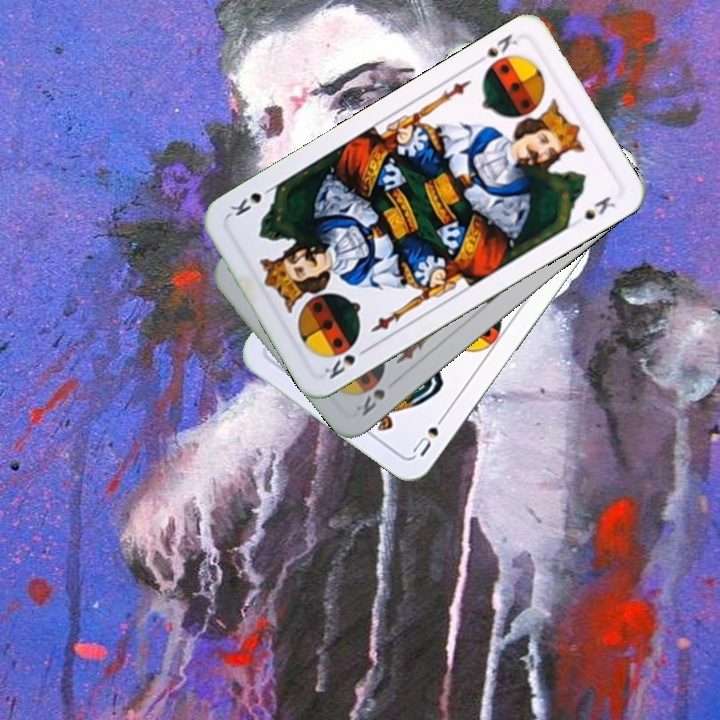SK: (320, 343, 373, 382), (470, 30, 521, 68), (351, 385, 388, 419)
SU: (408, 407, 451, 459)
